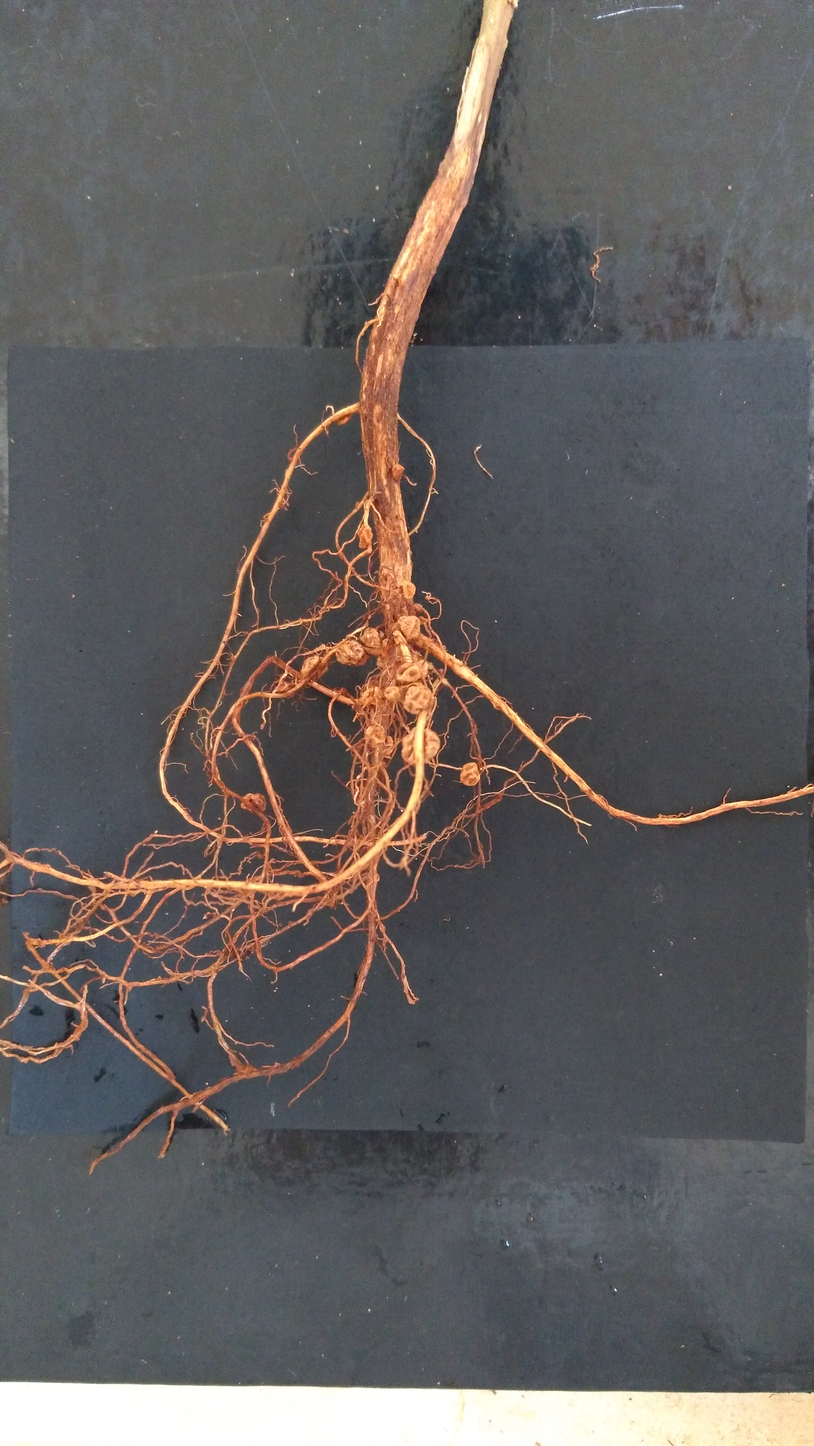nodule: (401, 727, 440, 763), (398, 681, 437, 714), (336, 640, 370, 666), (395, 659, 429, 682), (360, 626, 387, 654), (301, 656, 328, 679), (398, 615, 421, 641), (240, 792, 267, 813), (460, 761, 480, 786), (364, 724, 387, 744), (360, 686, 383, 705), (357, 523, 373, 548), (383, 685, 400, 704), (277, 680, 295, 697), (402, 579, 416, 599), (391, 463, 405, 480), (336, 412, 351, 426), (389, 589, 401, 604), (376, 655, 390, 667), (368, 678, 381, 689), (381, 637, 393, 648), (414, 602, 423, 612), (418, 616, 429, 624), (360, 800, 366, 808)
